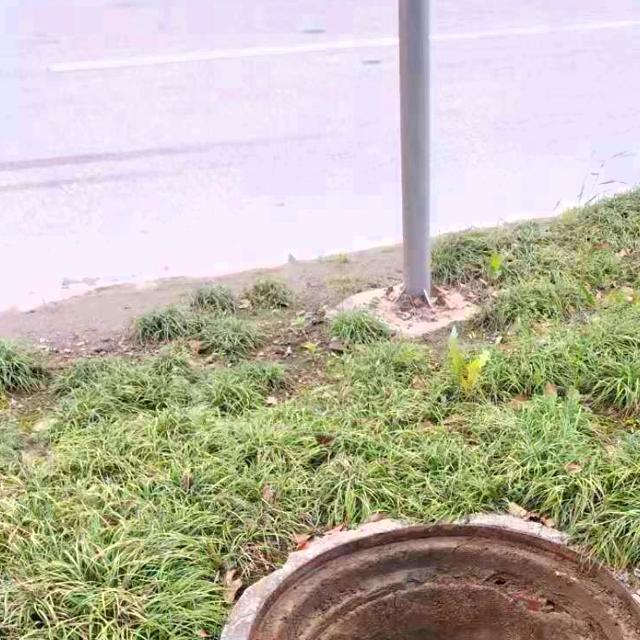lose: (199, 478, 640, 640)
